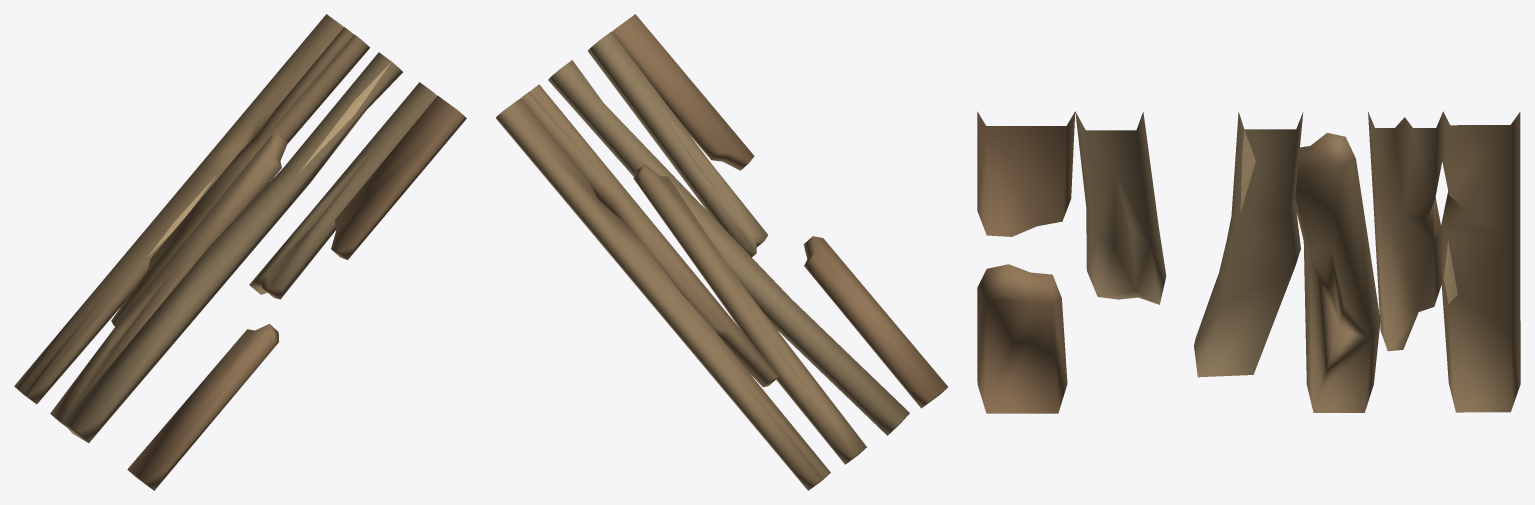
File: rpgpp_av_roof_02_6x3x3_half_b.gltf
The picture shows the model from 3 angles, left to right: view 1: azimuth 30°, elevation 25°; view 2: azimuth 150°, elevation 25°; view 3: azimuth 270°, elevation 25°; orthographic projection. The views are drawn at different scales.
Parts seen in each view (by area): view 1: rpgpp_av_roof_02_6x3x3_half_b; view 2: rpgpp_av_roof_02_6x3x3_half_b; view 3: rpgpp_av_roof_02_6x3x3_half_b.
Part boxes in pixels (x1,y1,x2,y2): rpgpp_av_roof_02_6x3x3_half_b: (14,14,466,490); rpgpp_av_roof_02_6x3x3_half_b: (496,14,947,490); rpgpp_av_roof_02_6x3x3_half_b: (977,111,1520,413).
Size of the model in its own units: 0.0433 by 0.0376 by 0.03.
1 material, 1 textured.
